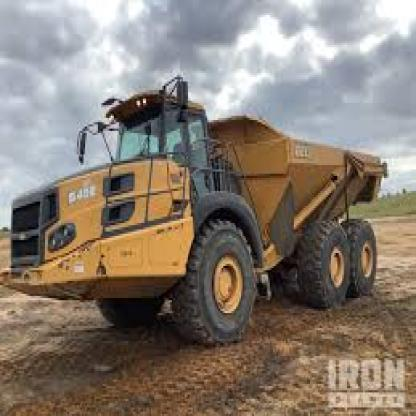dump_truck: (6, 69, 392, 345)
